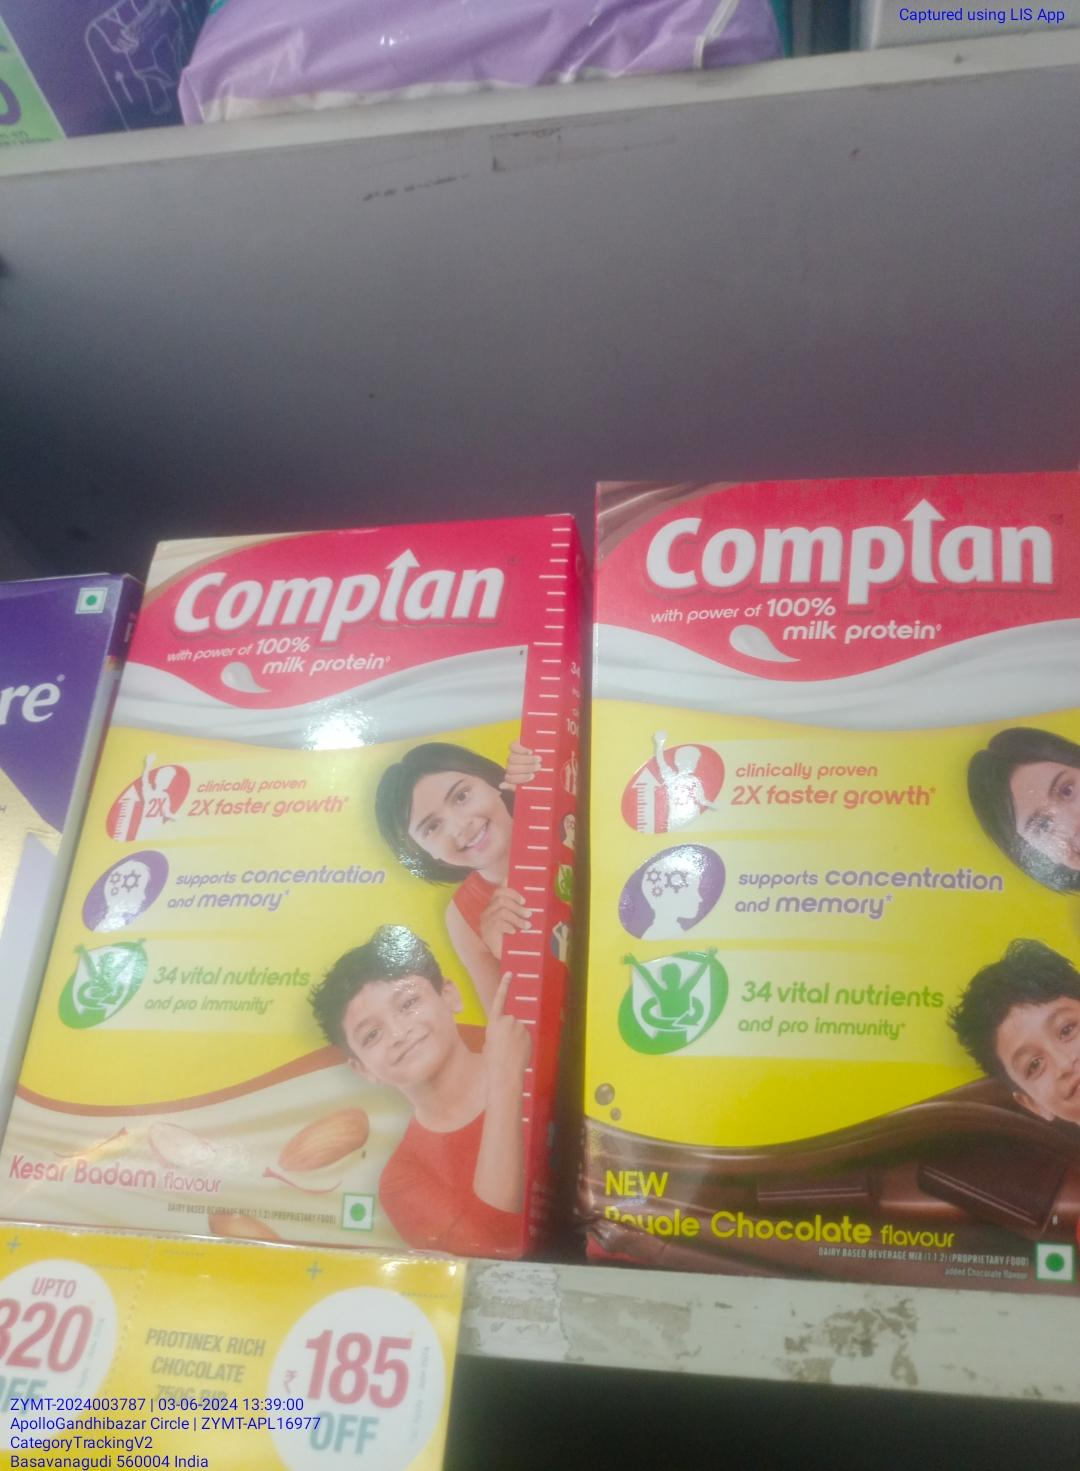COMPLAN_CHOCOLATE_500_GMS_PACK: (586, 492, 1080, 1295)
COMPLAN_KESAR_BADAM_500_GMS_PACK: (72, 517, 557, 1246)
